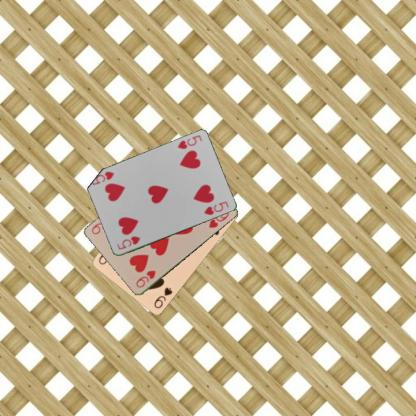5h: (174, 133, 203, 151), (114, 233, 141, 251)
9h: (134, 268, 157, 290)
9s: (151, 285, 174, 310)
